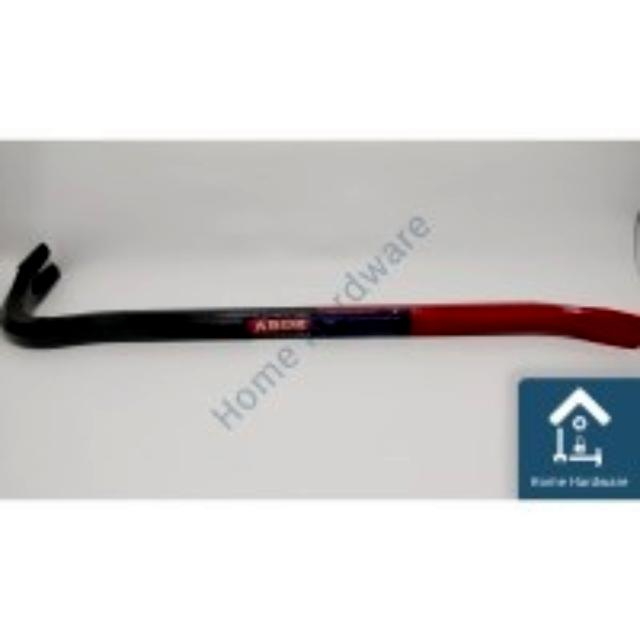crow bar: (4, 241, 638, 347)
